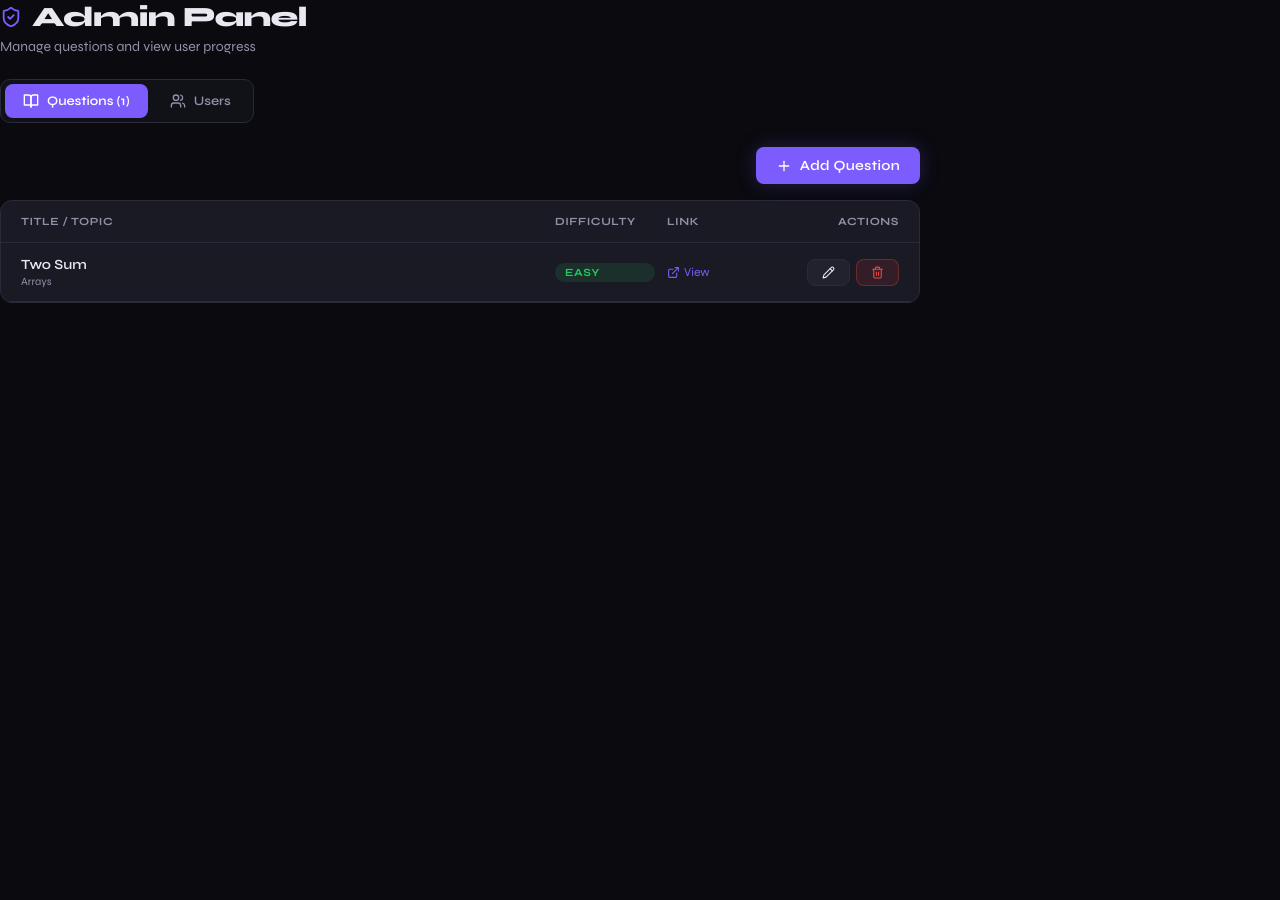
Test: AdminPage › opens edit modal
Click the button titled "Edit".
click(828, 272)  # box [807,258,850,286]
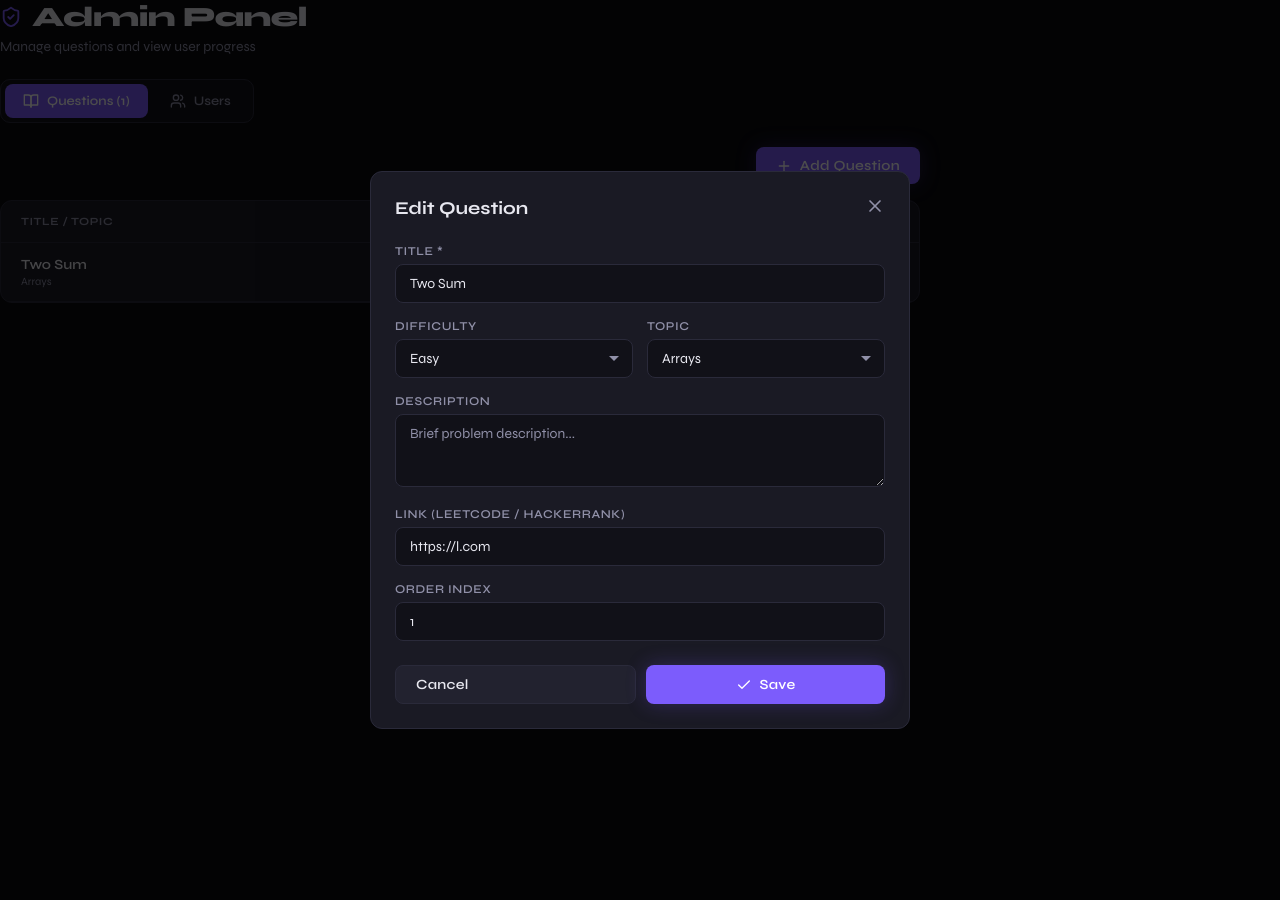
Check: the heading "Edit Question" is shown, box [395,197,528,219]
